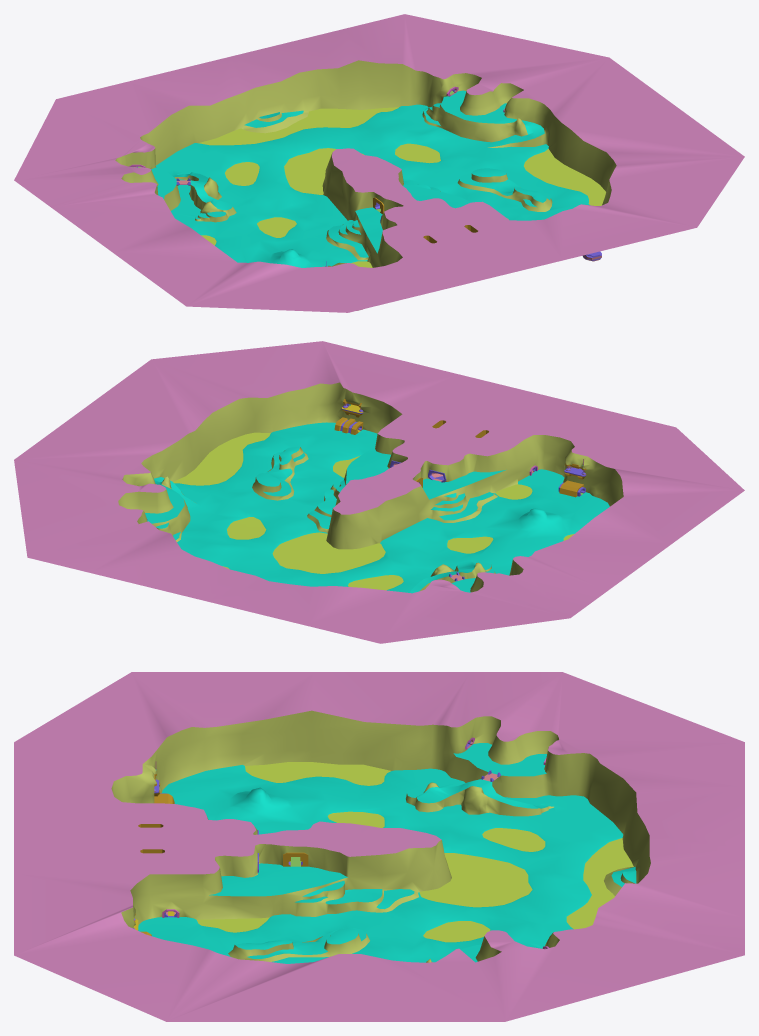
Rendered from sidewinder.fbx.
3 views of the same model, one above another, from view 1: azimuth 30°, elevation 25°; view 2: azimuth 150°, elevation 25°; view 3: azimuth 270°, elevation 25° (orthographic). The views are drawn at different scales.
Parts seen in each view (by area): view 1: cluster_27, cluster_25.007, cluster_25.010, cluster_25.011, cluster_25; view 2: cluster_27, cluster_25.007, cluster_25.010, cluster_25.011, cluster_25; view 3: cluster_27, cluster_25.007, cluster_25.010, cluster_25.011, cluster_25.
Part boxes in pixels (left/top/right/bottom): cluster_27: left=14, top=14, right=744, bottom=312; cluster_25.007: left=151, top=90, right=589, bottom=267; cluster_25.010: left=115, top=60, right=616, bottom=267; cluster_25.011: left=198, top=107, right=605, bottom=267; cluster_25: left=129, top=86, right=601, bottom=310; cluster_27: left=14, top=341, right=744, bottom=643; cluster_25.007: left=145, top=422, right=609, bottom=593; cluster_25.010: left=118, top=382, right=623, bottom=592; cluster_25.011: left=173, top=432, right=573, bottom=590; cluster_25: left=147, top=399, right=586, bottom=581; cluster_27: left=14, top=672, right=744, bottom=1021; cluster_25.007: left=138, top=743, right=636, bottom=963; cluster_25.010: left=111, top=710, right=650, bottom=962; cluster_25.011: left=197, top=762, right=633, bottom=942; cluster_25: left=133, top=737, right=548, bottom=949.
Size of what is drawn, in the model's own units: 1563905 by 116945 by 1381721.
